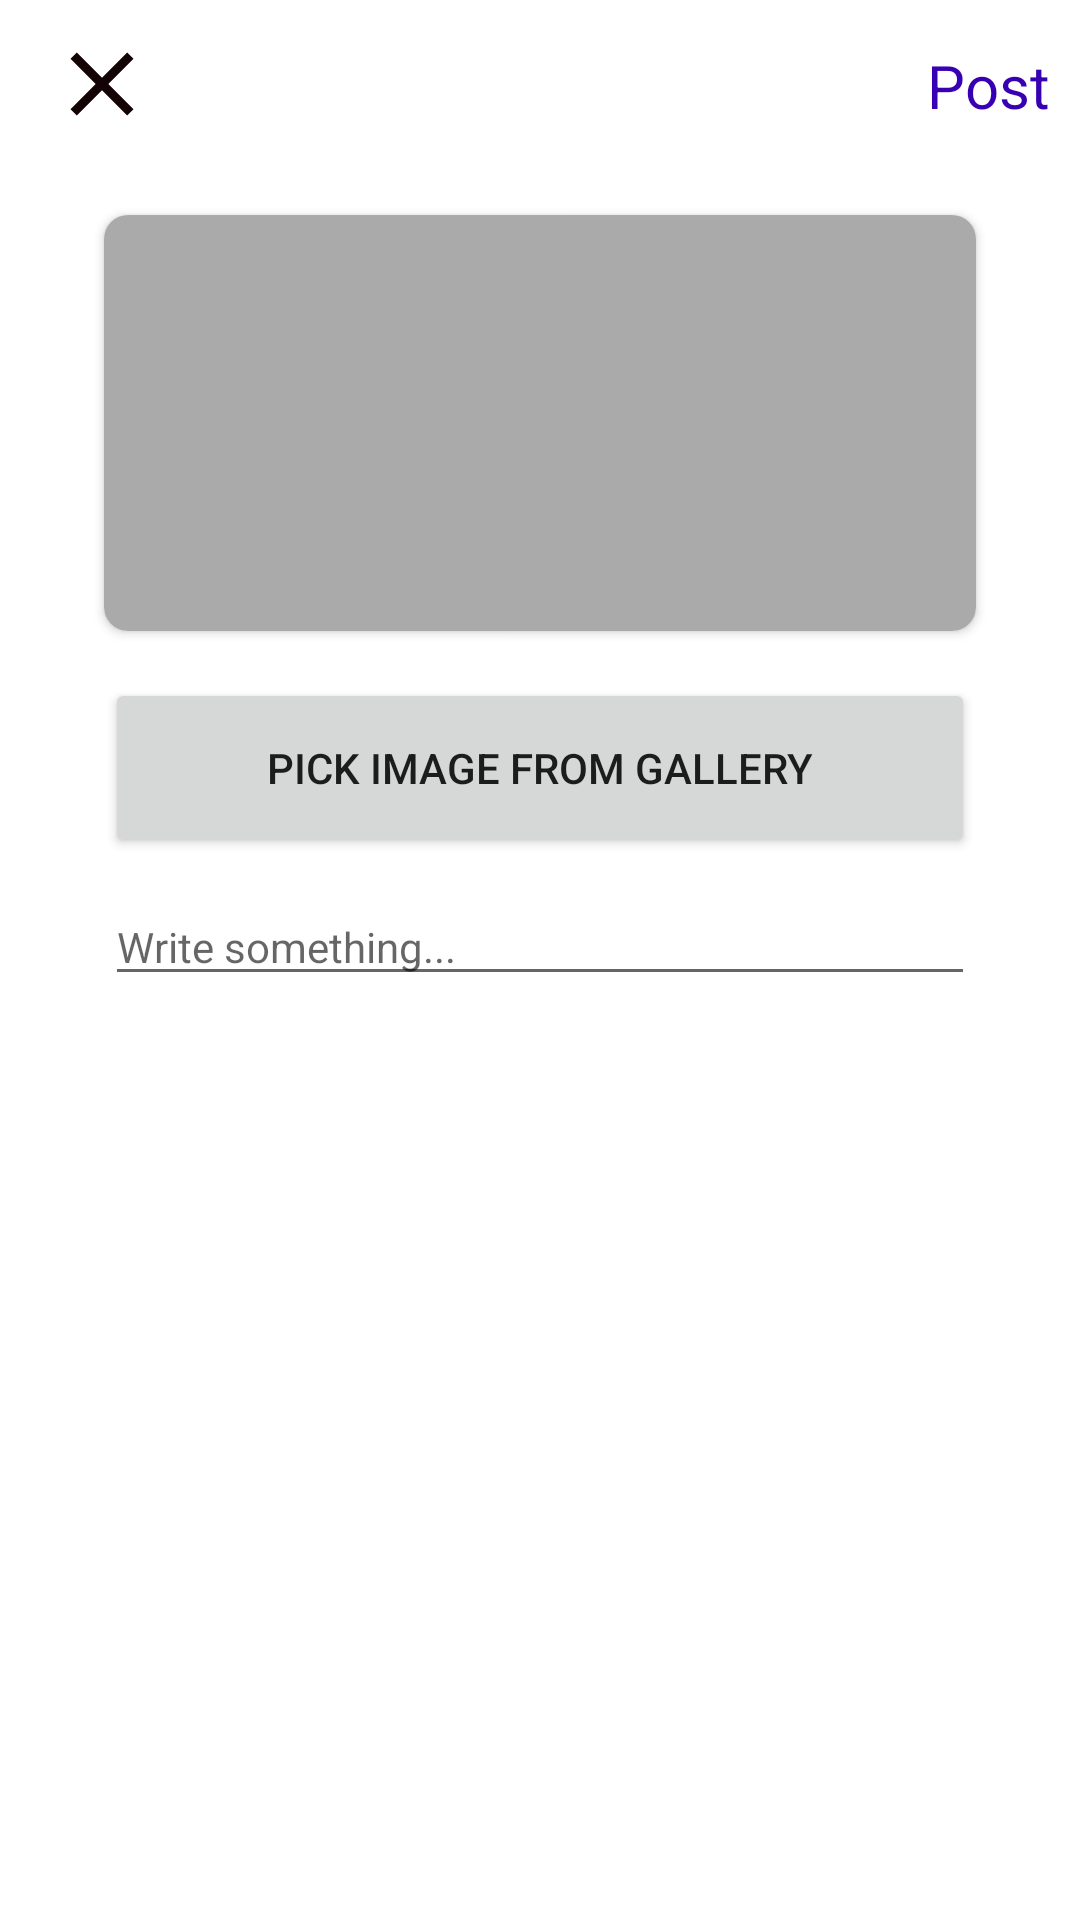

Where to tap for icons on this 1080*1920 app screen, as (x,y):
clear: (102,84)
